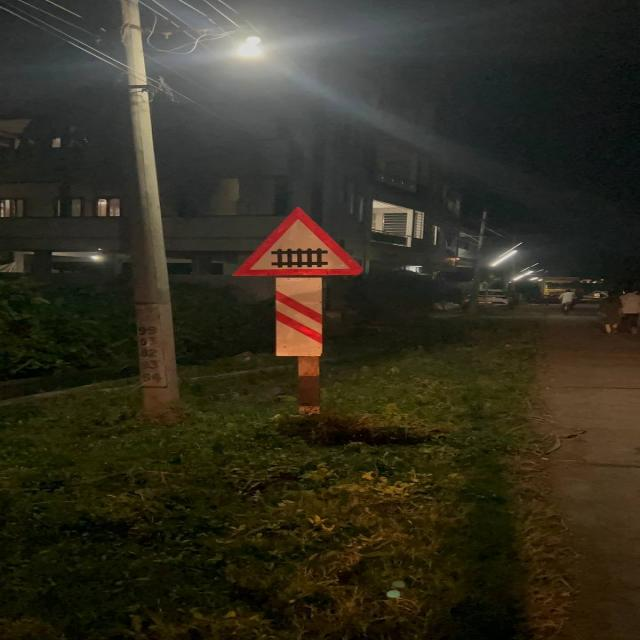200 metres: (228, 204, 364, 359)
